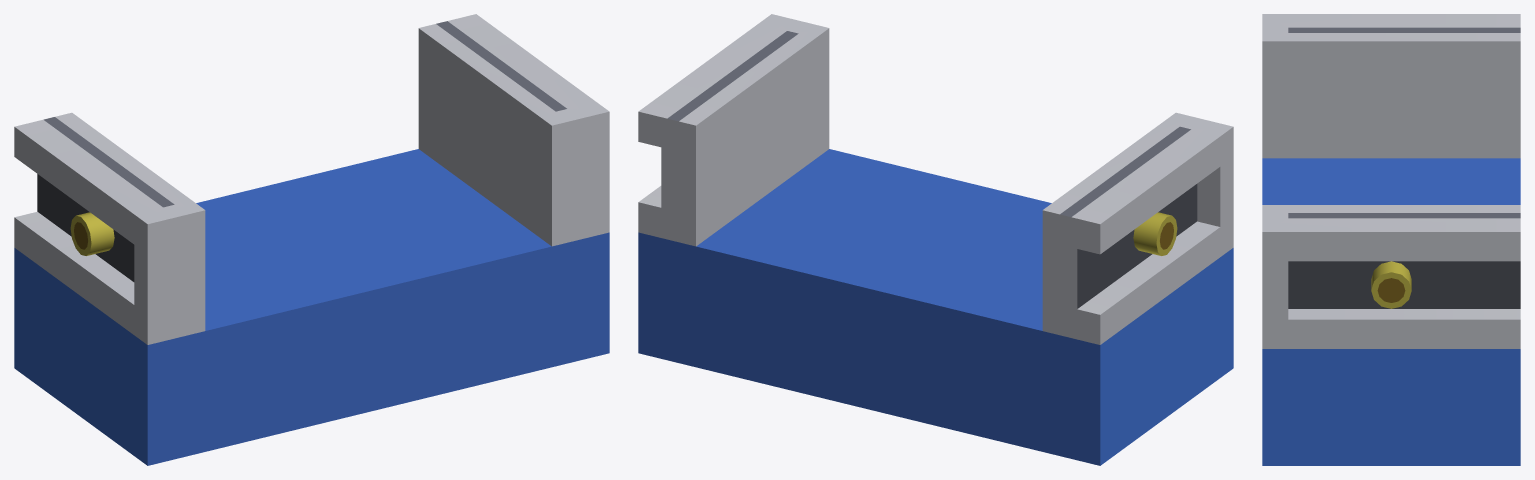
The model's file is NF_Belt_Front.fbx.
3 views of the same model, side by side, from view 1: azimuth 30°, elevation 25°; view 2: azimuth 150°, elevation 25°; view 3: azimuth 270°, elevation 25° (orthographic). The views are drawn at different scales.
Visible parts, largest first — view 1: NF_Belt_Front; view 2: NF_Belt_Front; view 3: NF_Belt_Front.
Part boxes in pixels (x1,y1,x2,y2): NF_Belt_Front: [14, 14, 609, 465]; NF_Belt_Front: [638, 14, 1233, 465]; NF_Belt_Front: [1262, 14, 1520, 465].
Bounding box in the file's own units: 1 × 0.5 × 0.5.
1 material, 1 textured.
